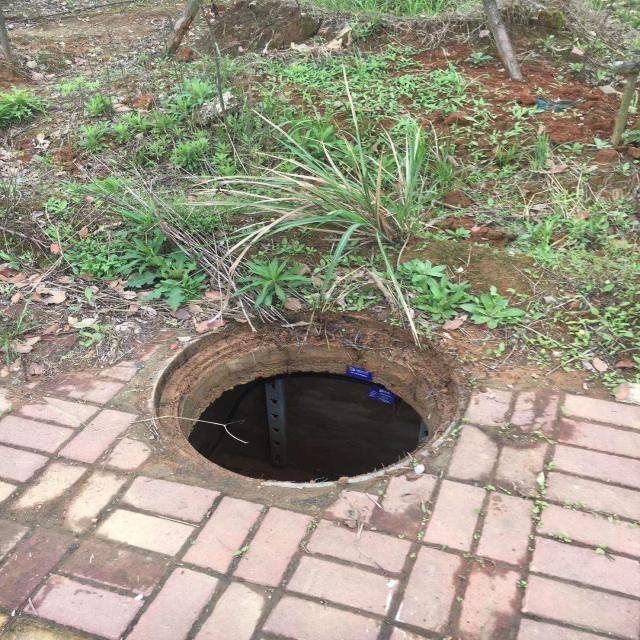Uncovered: (152, 309, 468, 487)
